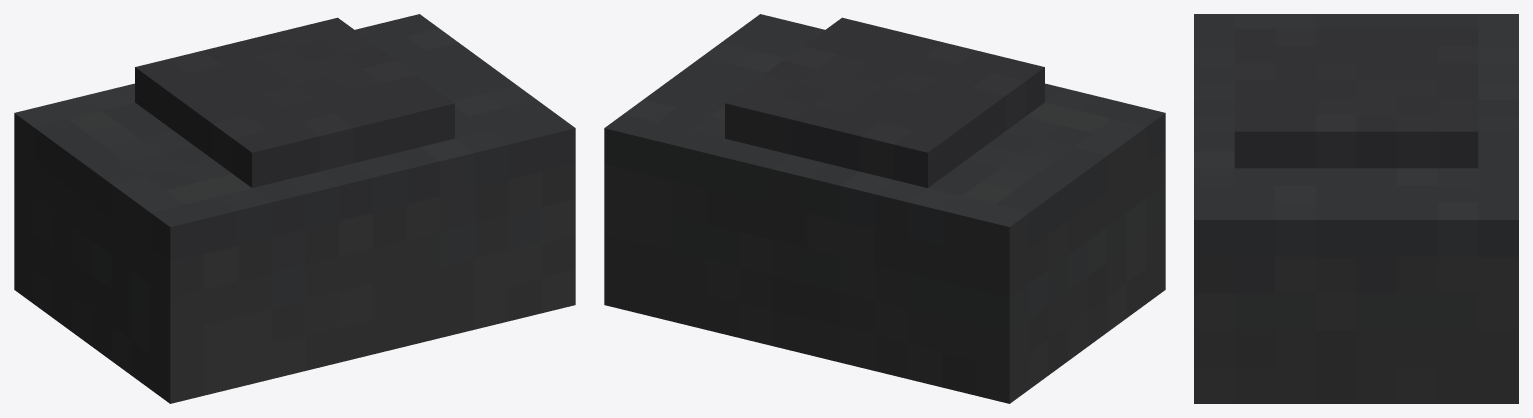
The model's file is Chest058.fbx.
3 views of the same model, side by side, from view 1: azimuth 30°, elevation 25°; view 2: azimuth 150°, elevation 25°; view 3: azimuth 270°, elevation 25° (orthographic). The views are drawn at different scales.
Parts seen in each view (by area): view 1: Chest058; view 2: Chest058; view 3: Chest058.
Boxes of the visible parts, <box> form: Chest058: <box>14,14,575,403</box>; Chest058: <box>604,14,1165,403</box>; Chest058: <box>1194,14,1518,403</box>.
Size of the model in its own units: 12 by 6 by 8.
